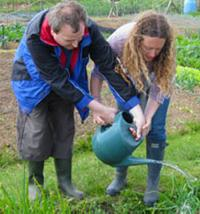person: (8, 1, 147, 202)
